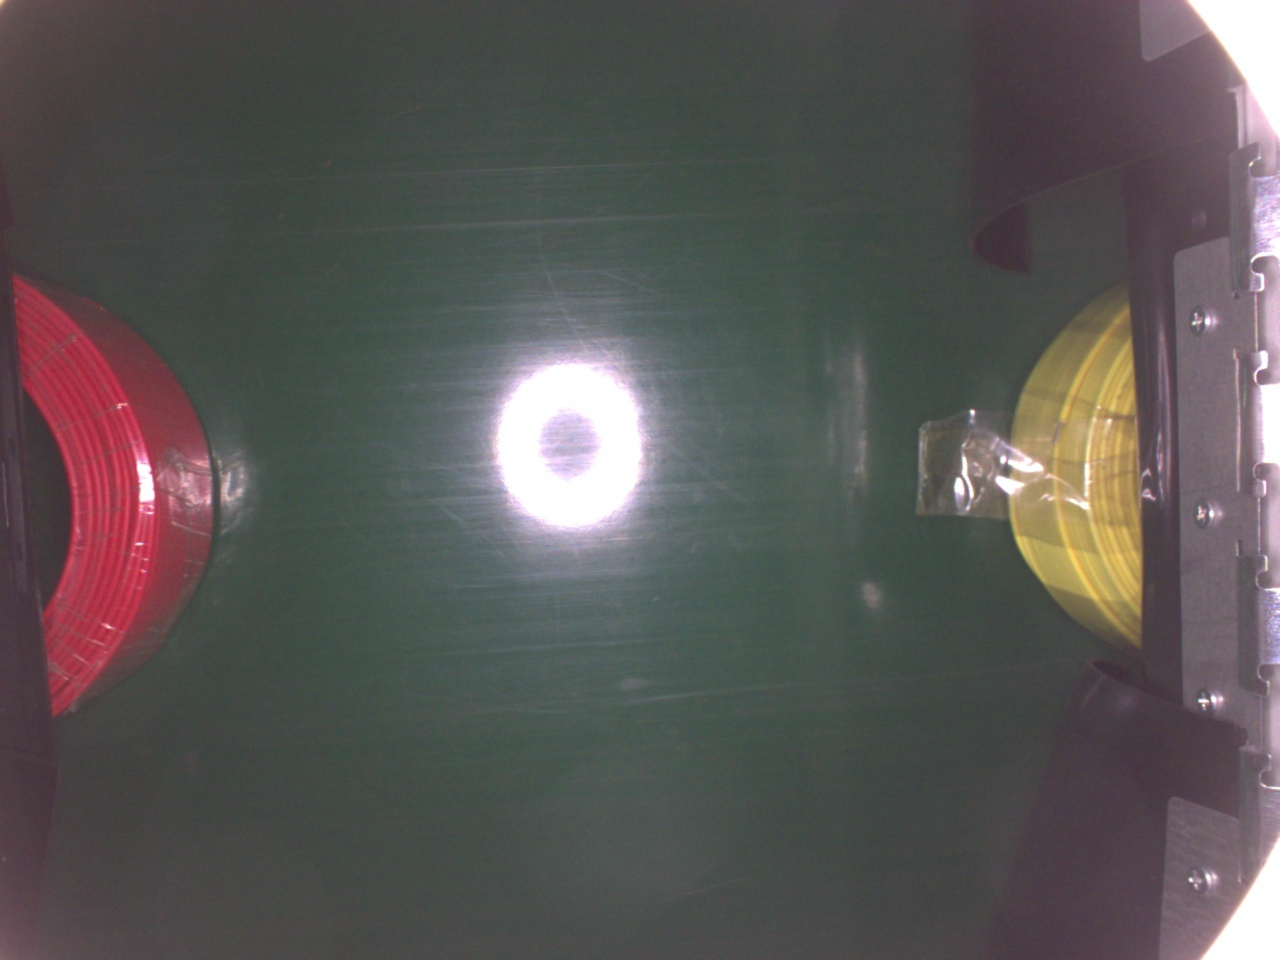red: (9, 262, 221, 720)
yellow: (1010, 293, 1148, 653)
